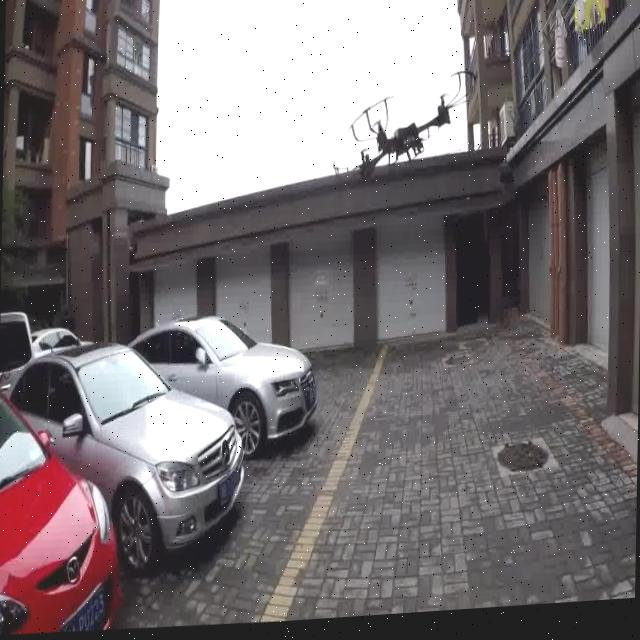drone: (329, 60, 481, 202)
